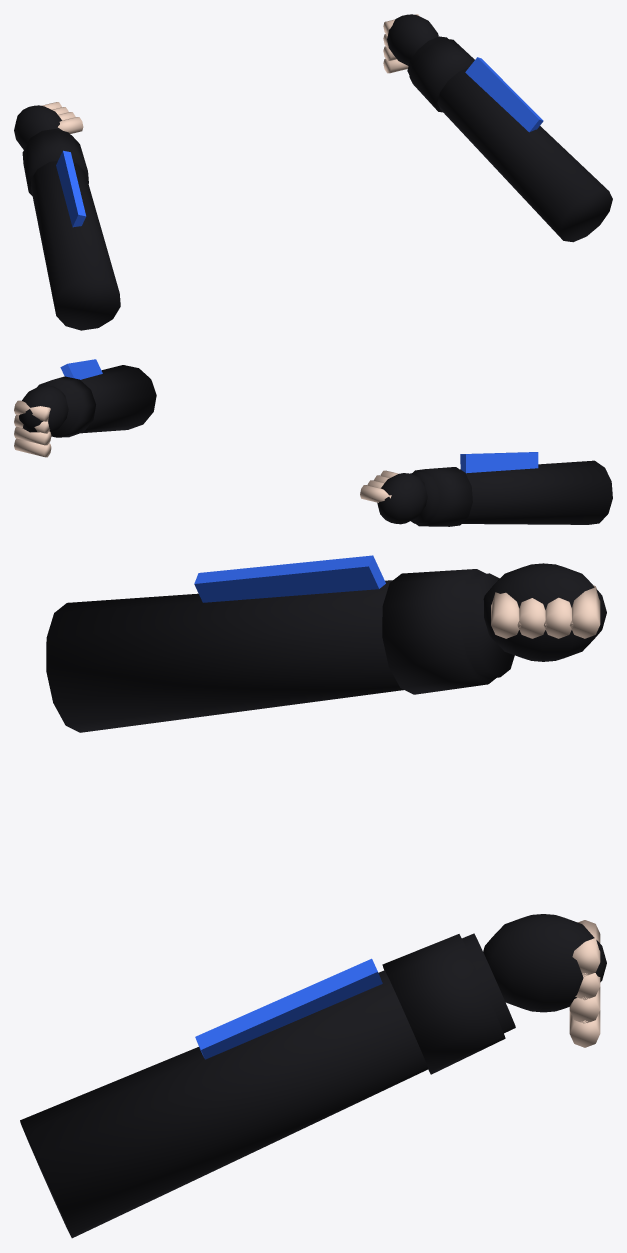
File: fp_alex.glb
The picture shows the model from 3 angles, top to bottom: view 1: azimuth 30°, elevation 25°; view 2: azimuth 150°, elevation 25°; view 3: azimuth 270°, elevation 25°; orthographic projection. The views are drawn at different scales.
Parts seen in each view (by area): view 1: ArmR, ArmL; view 2: ArmL, ArmR; view 3: ArmR, ArmL.
Part boxes in pixels (bbox=[...]): ArmR: bbox=[383, 14, 612, 242]; ArmL: bbox=[14, 102, 120, 330]; ArmL: bbox=[360, 452, 612, 526]; ArmR: bbox=[14, 359, 156, 457]; ArmR: bbox=[20, 914, 606, 1238]; ArmL: bbox=[46, 555, 606, 732].
Bounding box in the file's own units: 0.8793 × 0.2192 × 0.4248.
